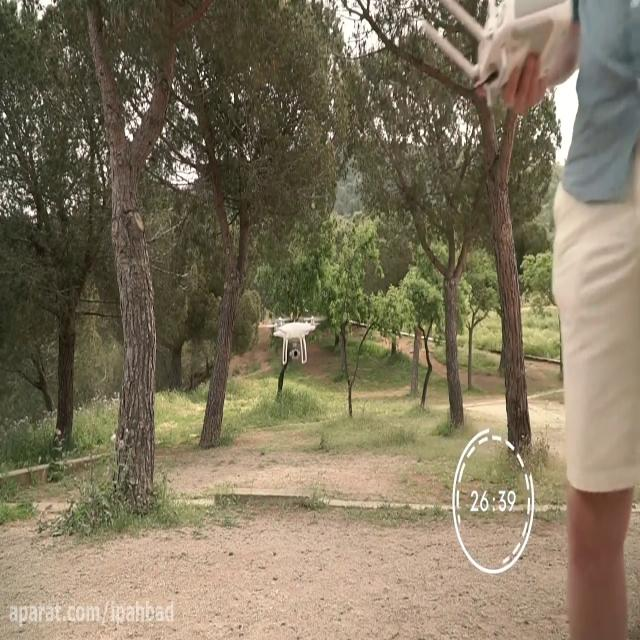drone: (266, 308, 328, 366)
